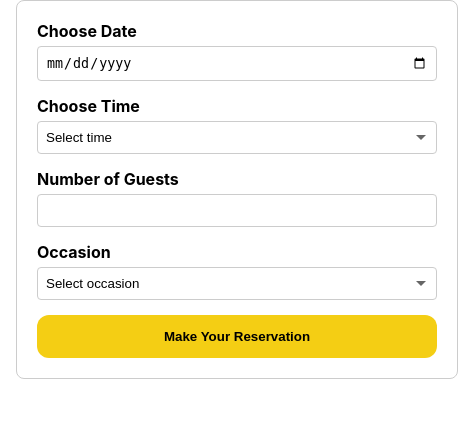
Test: BookingForm › should show error when guests input is invalid
This screenshot has width=475, height=440.
// Fill in the date and time, but leave guests empty
Type "2025-10-20" into the date field labelled "Choose Date" at point(237, 64), box [37,46,437,81]
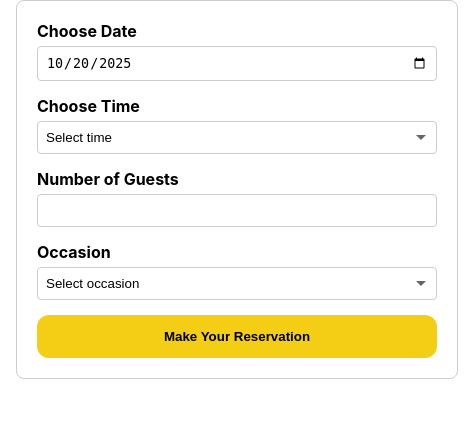
Select "17:00" in the dropdown labelled "Choose Time" at point(237, 138), box [37,121,437,154]
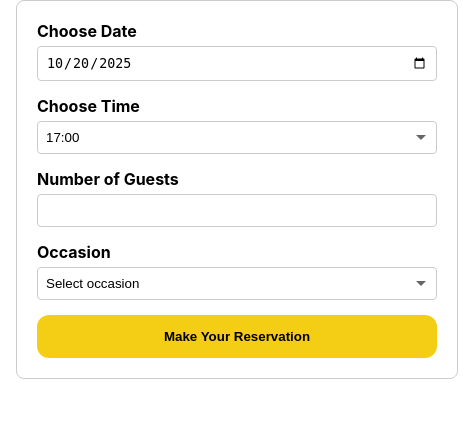
Click the button "Make Your Reservation" at point(237, 337), box [37,315,437,358]
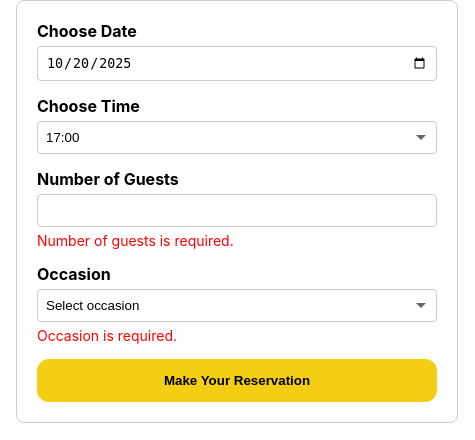
Check: the text "Number of guests is required." is shown, box [37,232,234,249]
